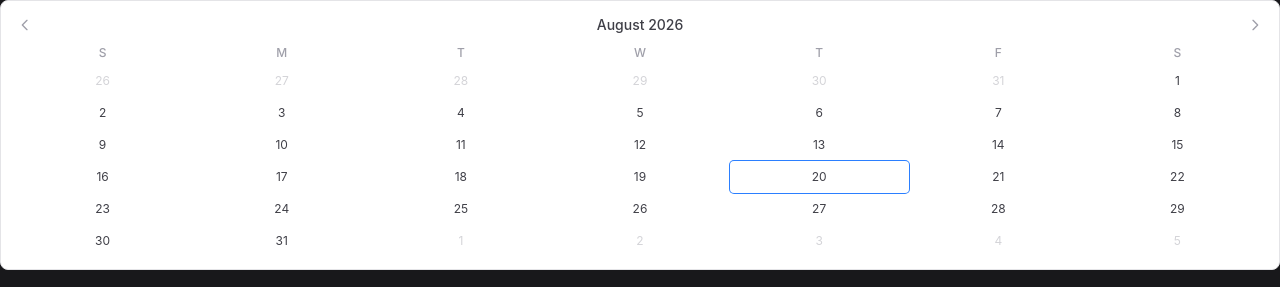
Calendar › from December clicking next goes to January of next year
Click the button named "Next month": (1255, 25) 1243,13 -> 1267,37
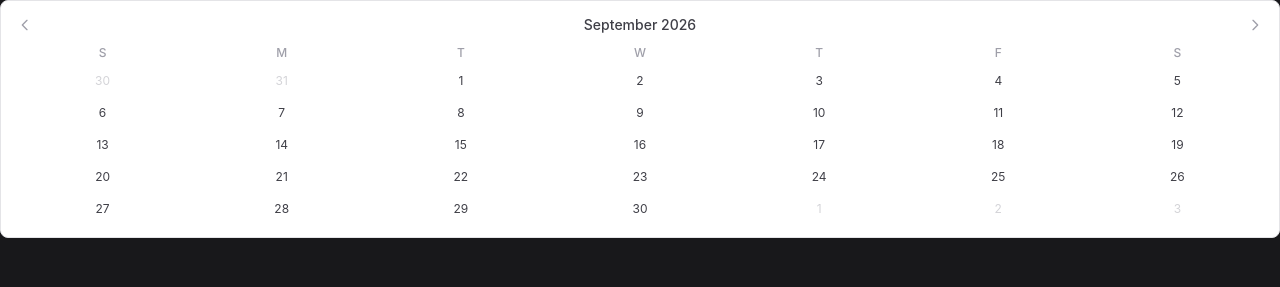
Click the button named "Next month": (1255, 25) 1243,13 -> 1267,37
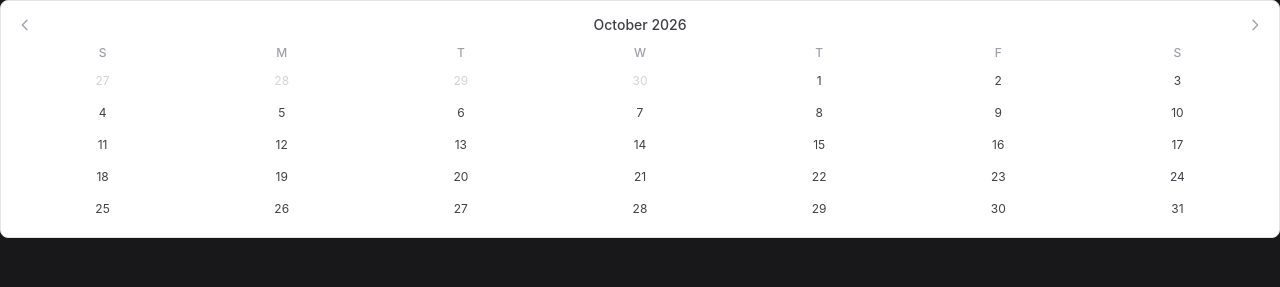
Click the button named "Next month": (1255, 25) 1243,13 -> 1267,37
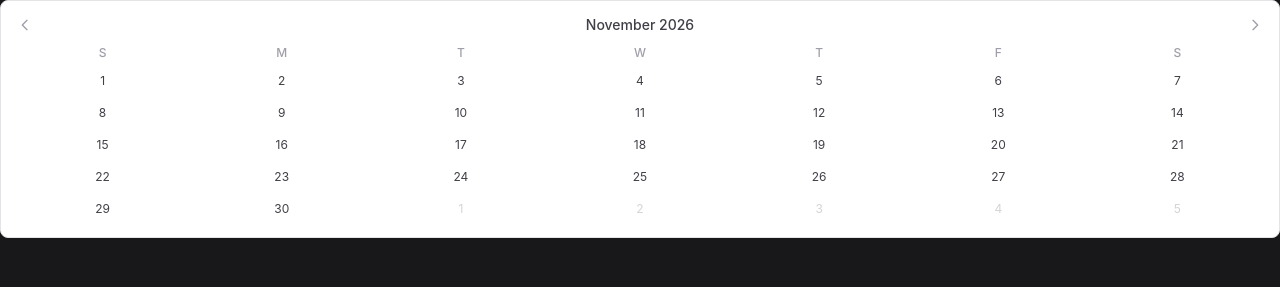
Click the button named "Next month": (1255, 25) 1243,13 -> 1267,37
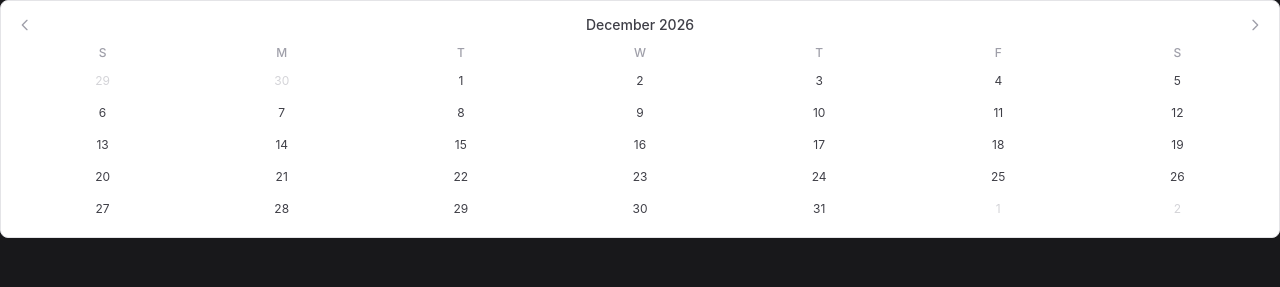
Expected: the text "December 2026" is shown, 586,15 -> 694,35
Click the button named "Next month": (1255, 25) 1243,13 -> 1267,37
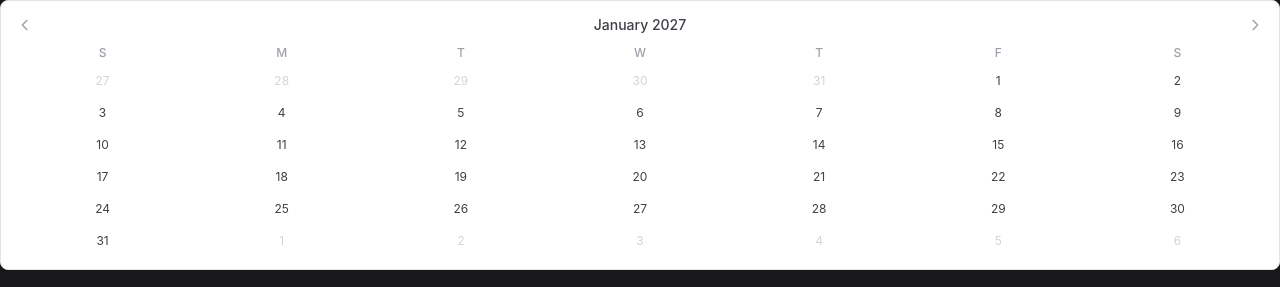
Expected: the text "January 2027" is shown, 594,15 -> 686,35
